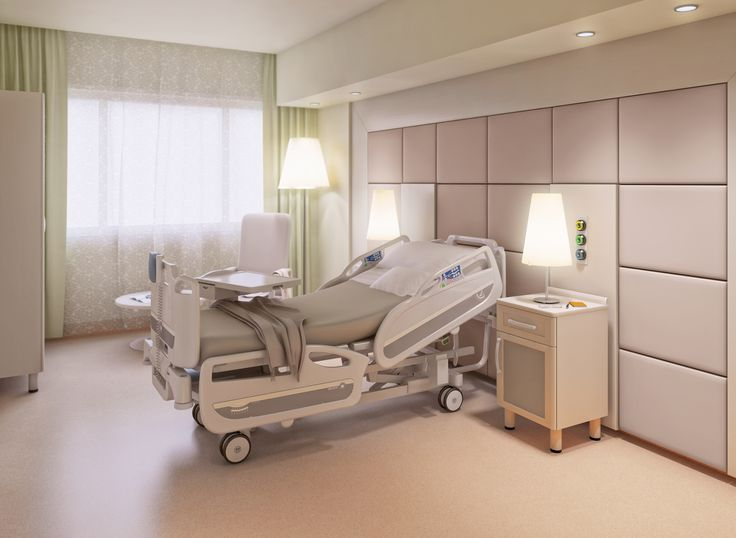hospital bed: (153, 224, 498, 418)
